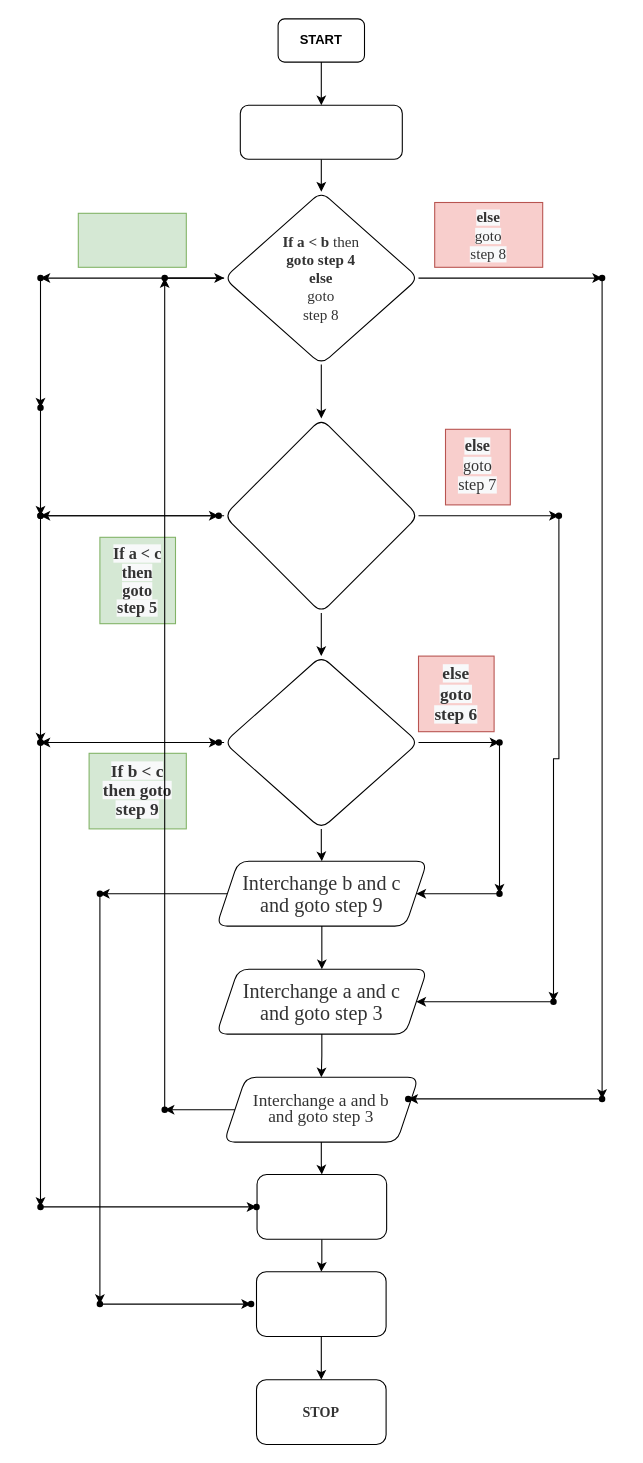
Image size: 643x1463. Some labels were removed from this diagram. The centre of each missing label's shape, as x and y in pixels:
Accept three numbers from user (a, b, c): point 320,131
Display numbers a, b, c: point 320,1303
Display “Ascending order” of numbers a, b, c: point 321,1206
If a < b then goto step 4: point 131,239
If a < c then goto step 5 else goto step 7: point 320,515
If b < c then goto step 9 else goto step 6: point 320,742
